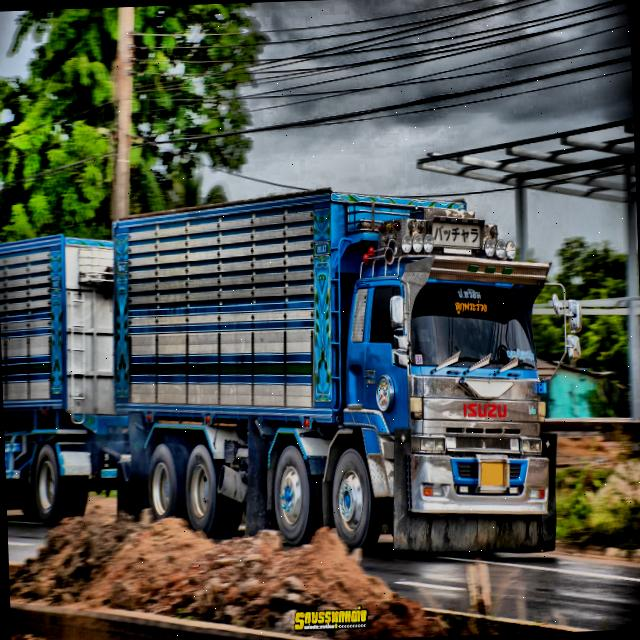trailer: (0, 179, 557, 570)
